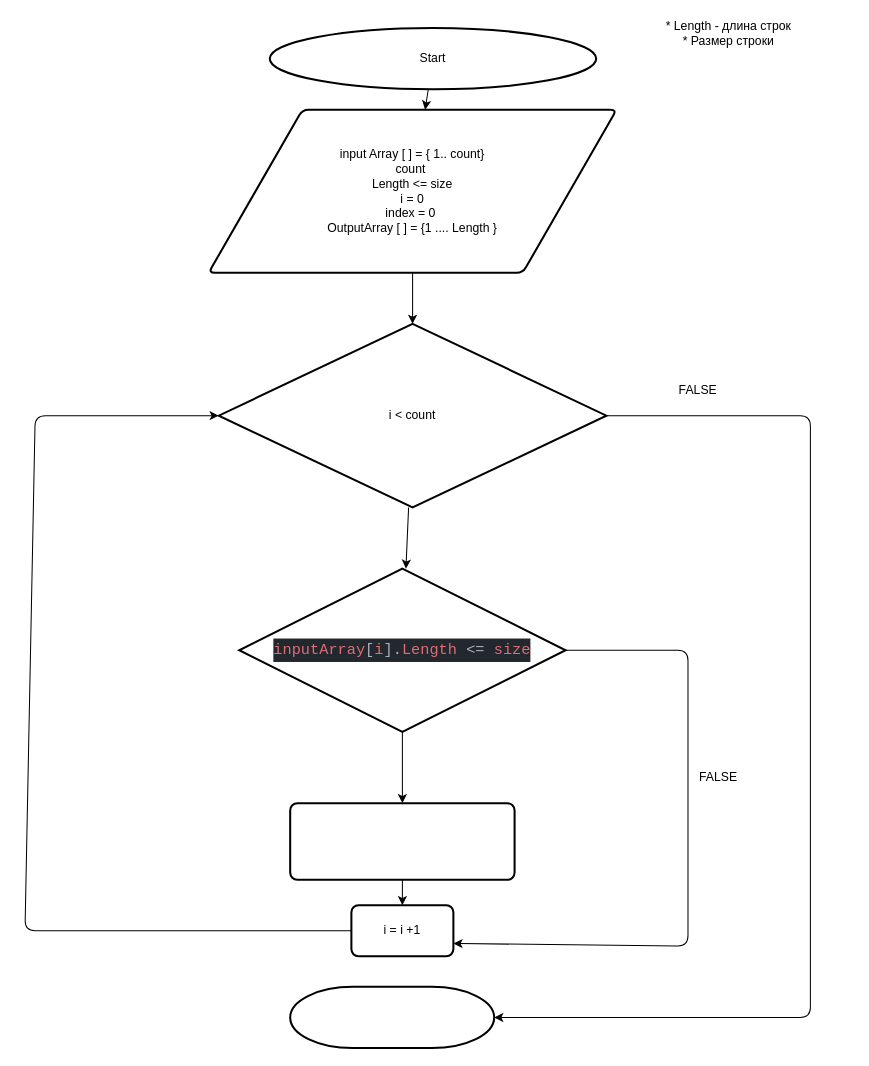
Image size: 869x1066. Some labels were removed from this diagram. Each missing label, with the centre of its shape:
"End" goes at [392,1017].
"outputArray[index] = inputArray[i] index = index + 1" goes at [402,841].
